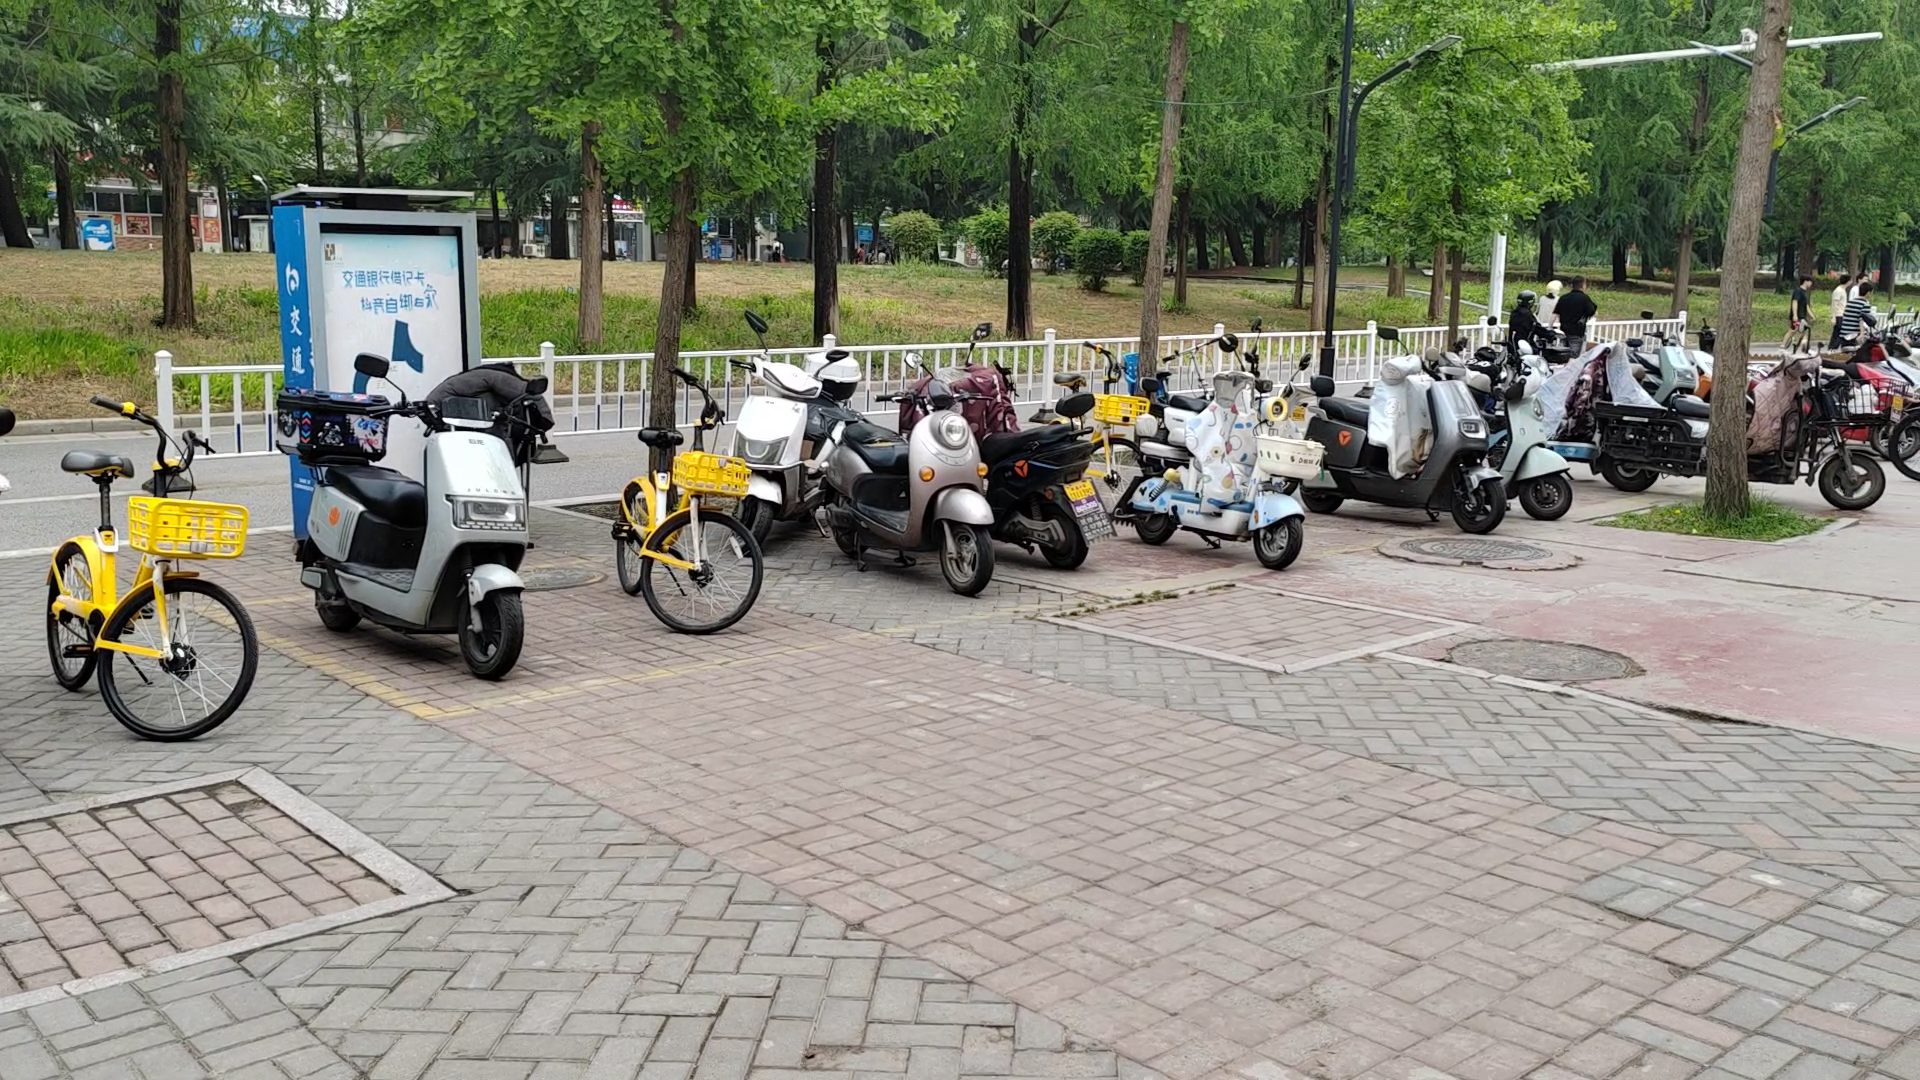others: (276, 355, 542, 687), (1589, 355, 1871, 537), (1294, 356, 1526, 542), (800, 367, 982, 587), (1440, 330, 1658, 512), (1135, 389, 1336, 572), (740, 328, 862, 558)
shared_bike_meituan: (32, 371, 261, 744), (605, 357, 758, 669), (1035, 353, 1154, 498)
